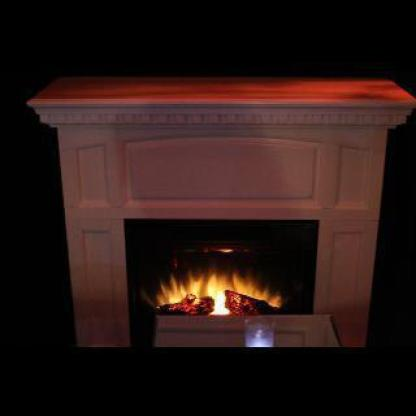fire: (143, 260, 290, 315)
